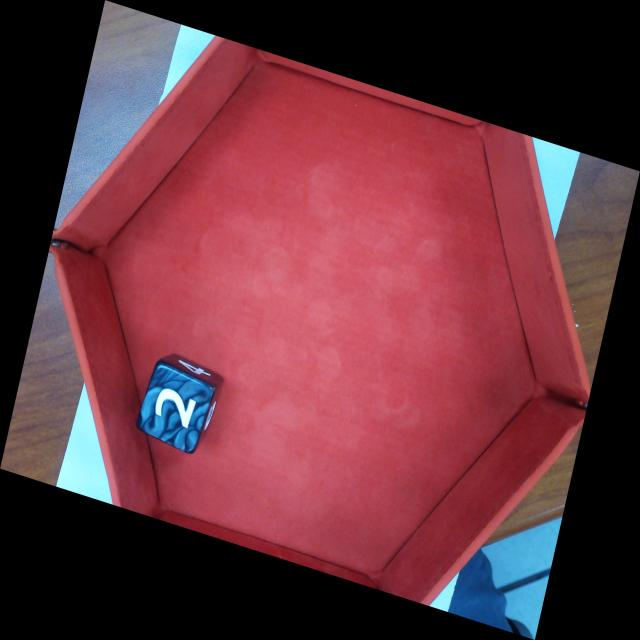dice: (134, 362, 218, 458)
